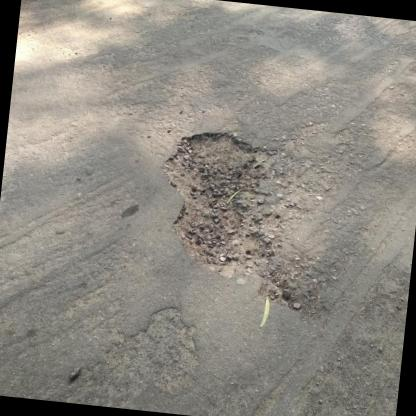pothole: (148, 124, 284, 282)
